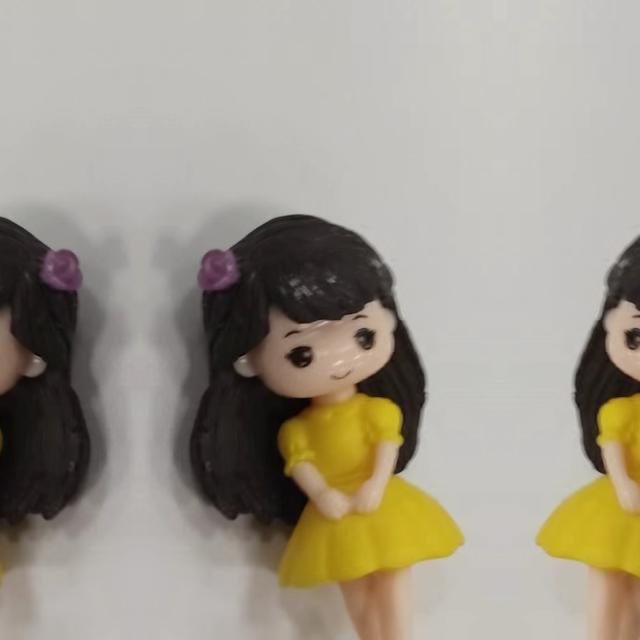woman dress: (270, 412, 474, 586), (525, 412, 640, 585), (0, 412, 10, 585)
woman head: (192, 204, 434, 406), (0, 204, 88, 405), (565, 204, 640, 405)
